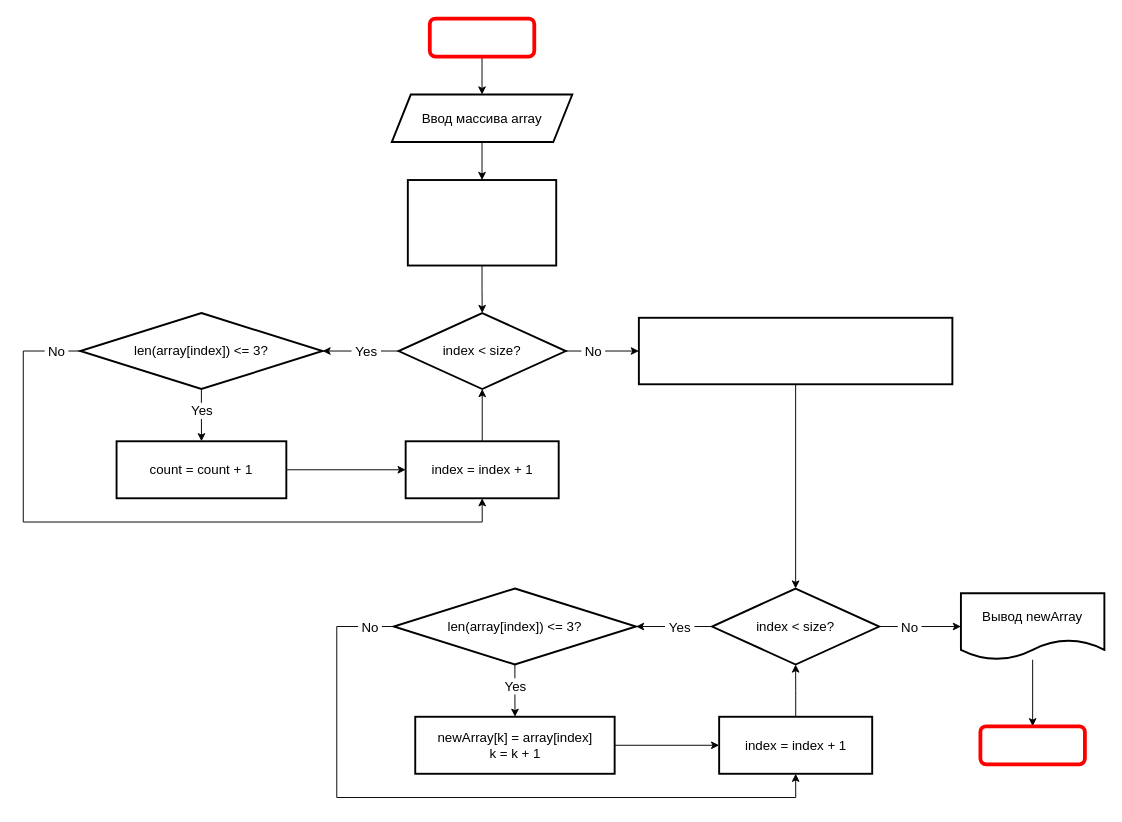
The diagram is 1122 pixels wide and 822 high, and some of its shapes have lost their labels. Here are the shapes that lost their labels. From the top down, the centre of each, then its label:
pixel 481 37: Start
pixel 481 222: index = 0 size = len(array) count = 0 k = 0
pixel 795 350: index = 0 Создание массива newArray длины count
pixel 1032 745: End
